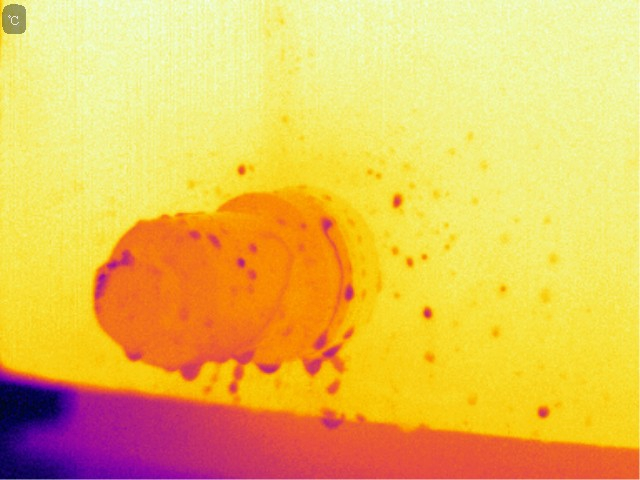Water: (324, 346, 354, 376), (174, 358, 204, 383), (318, 407, 348, 432), (231, 342, 256, 365), (299, 355, 322, 377), (310, 329, 332, 351), (529, 402, 552, 423), (124, 345, 144, 367), (384, 192, 406, 211), (255, 360, 282, 375), (417, 302, 435, 322), (315, 213, 336, 230), (183, 226, 203, 241), (206, 234, 223, 251), (342, 282, 355, 304), (213, 349, 232, 364), (226, 378, 244, 393), (231, 251, 247, 267), (244, 269, 261, 283), (404, 253, 417, 270), (235, 161, 248, 176), (341, 326, 357, 338), (230, 365, 245, 377), (416, 250, 431, 260), (247, 237, 258, 249)
